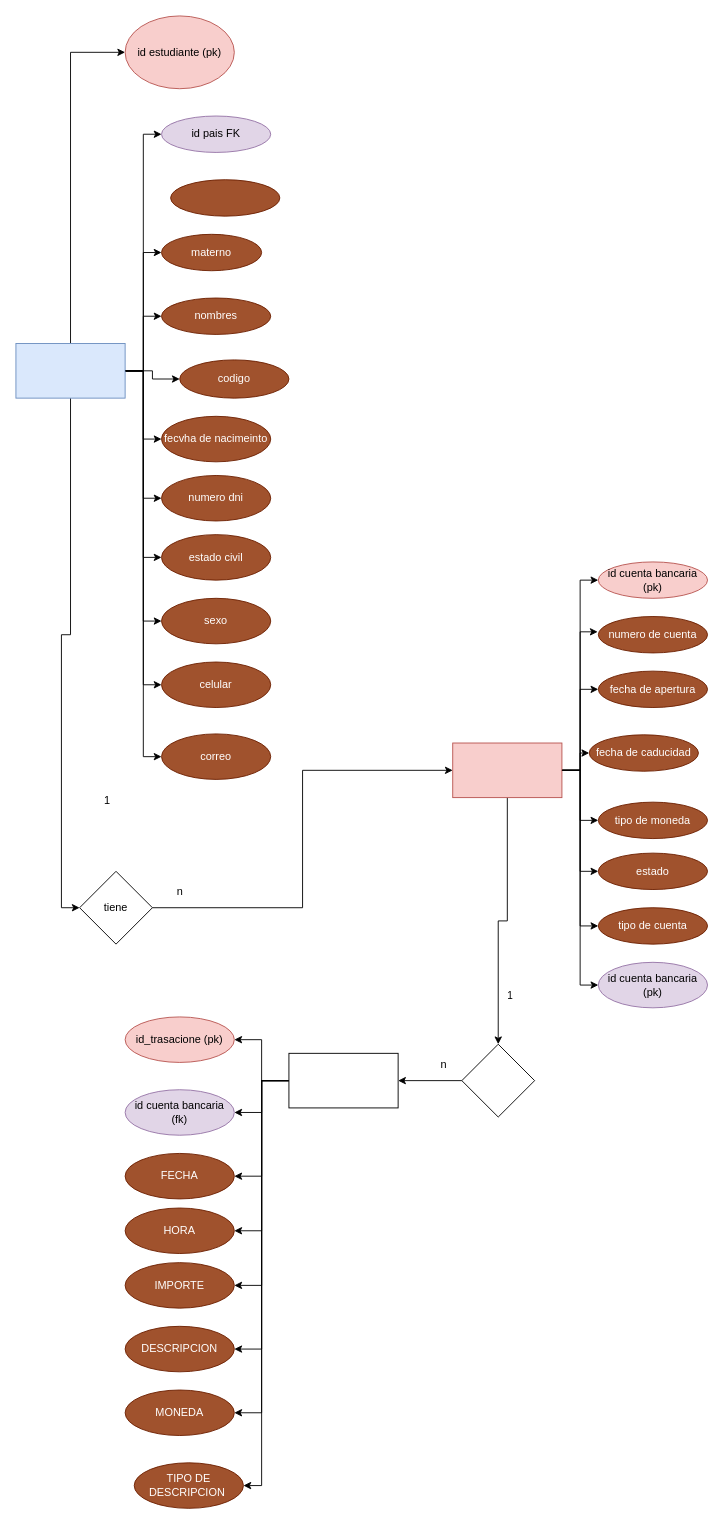
Some shapes in this 723 by 1524 pixel diagram are drawn without their labels. Each missing label, with the centre of its shape:
CLIENTE: pixel 70 370
Cuenta bancaria: pixel 507 770
paterno: pixel 225 197
trasanncciones: pixel 343 1080
